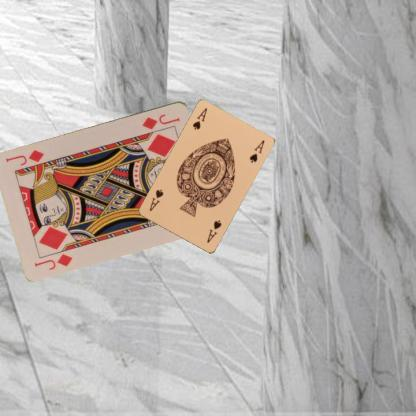As: (204, 218, 223, 245), (190, 106, 209, 131)
Jd: (140, 111, 182, 131), (32, 251, 74, 271)
